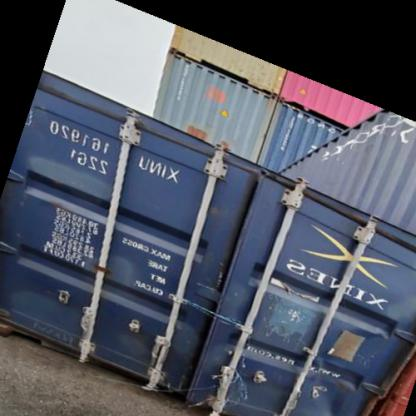Damage: (23, 147, 124, 218), (252, 284, 316, 344), (310, 369, 370, 415), (210, 362, 269, 404), (192, 193, 235, 229)
